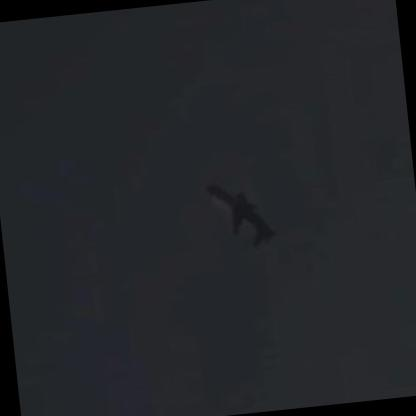plane: (198, 161, 283, 259)
